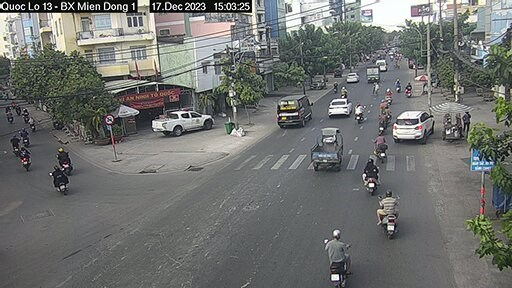car: (397, 102, 436, 147), (269, 95, 311, 133), (158, 106, 220, 131), (325, 94, 349, 126), (342, 70, 363, 88)
motorbike: (314, 228, 360, 279), (366, 180, 406, 233), (358, 157, 388, 189), (372, 134, 393, 165)
truck: (306, 121, 345, 175), (364, 64, 389, 94)
